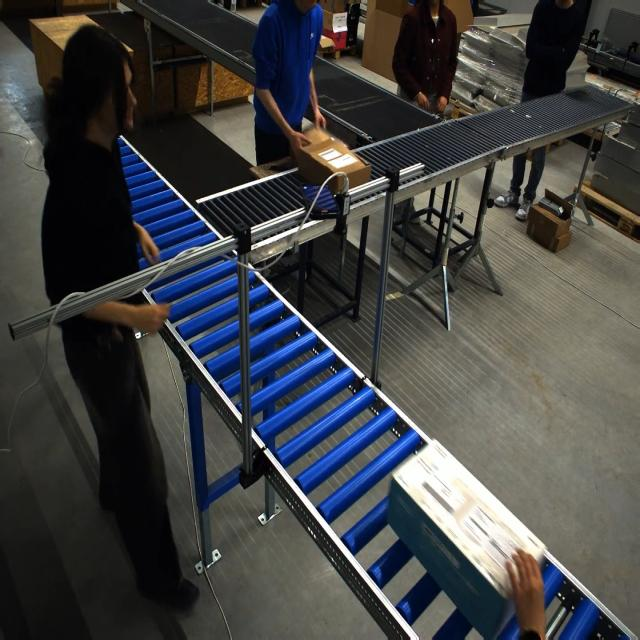box: (389, 445, 545, 637), (298, 128, 361, 193)
